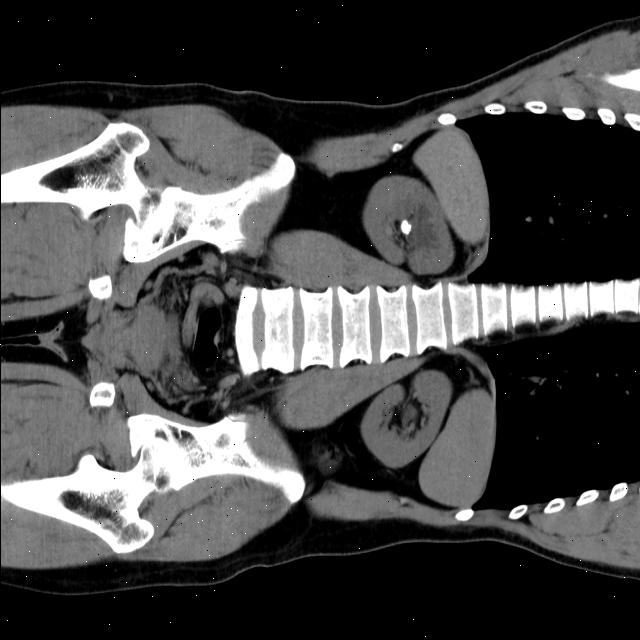kidneystone: (400, 220, 410, 235)
